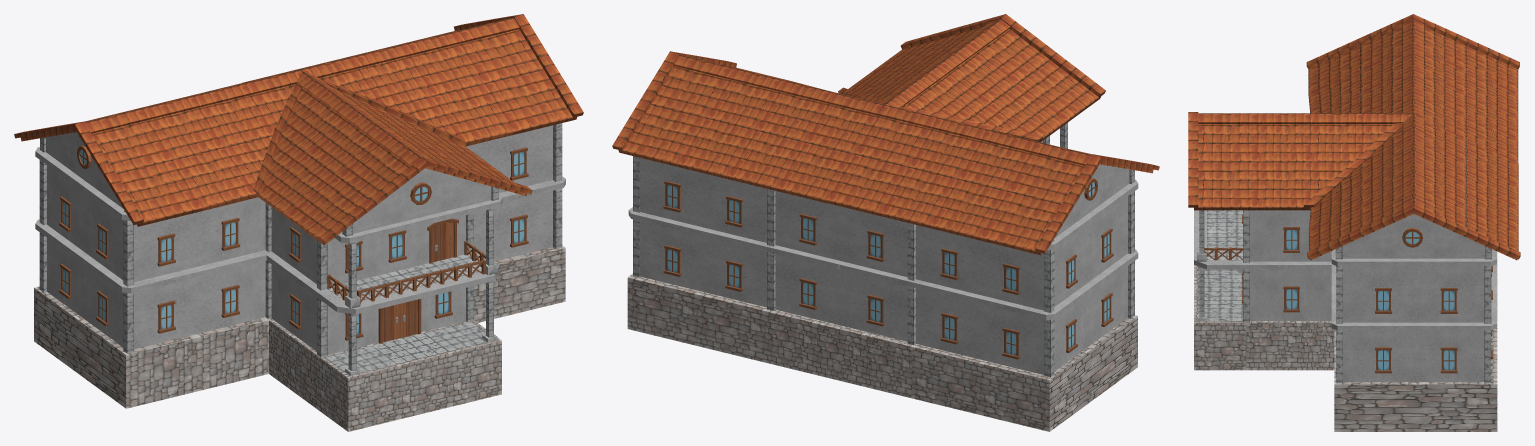
The model's file is house_town_grey_1.glb.
3 renders of one model, left to right at view 1: azimuth 30°, elevation 25°; view 2: azimuth 150°, elevation 25°; view 3: azimuth 270°, elevation 25°, orthographic. The views are drawn at different scales.
Visible parts, largest first — view 1: house_town_grey_1; view 2: house_town_grey_1; view 3: house_town_grey_1.
Boxes of the visible parts, x1,y1,x2,y2 form: house_town_grey_1: [14, 14, 583, 431]; house_town_grey_1: [612, 14, 1159, 431]; house_town_grey_1: [1188, 14, 1520, 431].
Size of the model in its own units: 35.03 by 18.92 by 25.32.
1 material, 1 textured.
